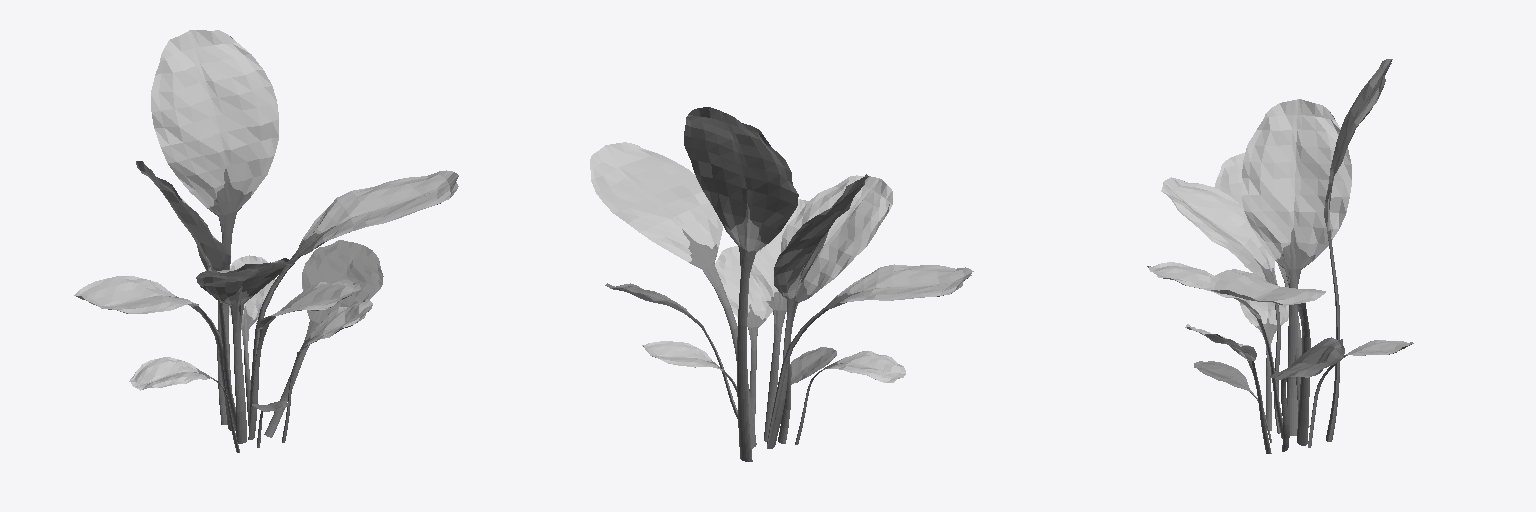
Rendered from Planta.obj.
3 renders of one model, left to right at view 1: azimuth 30°, elevation 25°; view 2: azimuth 150°, elevation 25°; view 3: azimuth 270°, elevation 25°, orthographic.
Visible parts, largest first — view 1: Calathea23_plant; view 2: Calathea23_plant; view 3: Calathea23_plant.
Boxes of the visible parts, <box> form: Calathea23_plant: <box>74,30,458,452</box>; Calathea23_plant: <box>590,107,973,461</box>; Calathea23_plant: <box>1147,59,1413,453</box>.
Size of the model in its own units: 2.59 by 2.48 by 1.6.